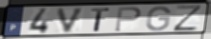4: (26, 7, 51, 34)
G: (145, 5, 173, 32)
P: (114, 6, 143, 32)
T: (90, 7, 111, 32)
V: (55, 7, 87, 34)
Z: (172, 4, 205, 32)
